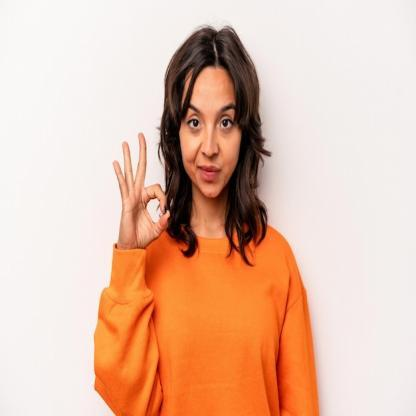ok: (111, 130, 174, 254)
